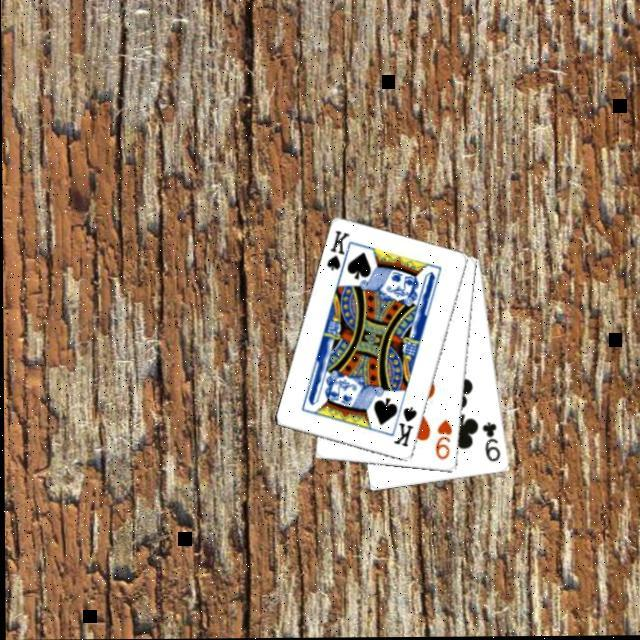9C: (476, 421, 501, 467)
9H: (430, 418, 452, 466)
KS: (322, 230, 354, 282), (388, 407, 416, 452)
